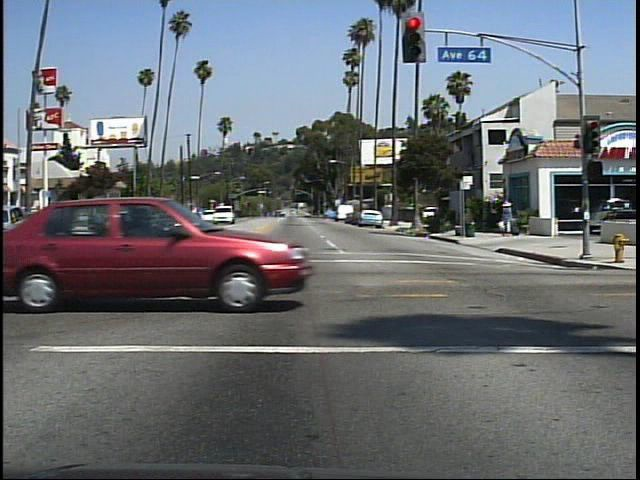person: (495, 195, 521, 240)
